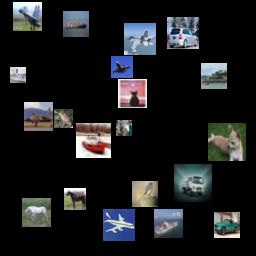airplane: (103, 209, 135, 241), (124, 23, 156, 55), (13, 2, 42, 31), (24, 102, 53, 131), (111, 56, 133, 78)
automobile: (167, 17, 199, 49), (214, 212, 240, 238)
bird: (132, 181, 158, 207)
cat: (118, 79, 147, 108), (116, 120, 132, 136)
dog: (208, 123, 246, 161)
frog: (54, 109, 73, 128)
ship: (76, 123, 111, 158), (154, 209, 183, 238), (201, 63, 227, 89), (63, 11, 89, 37), (10, 67, 26, 83)
truck: (174, 164, 212, 202)
